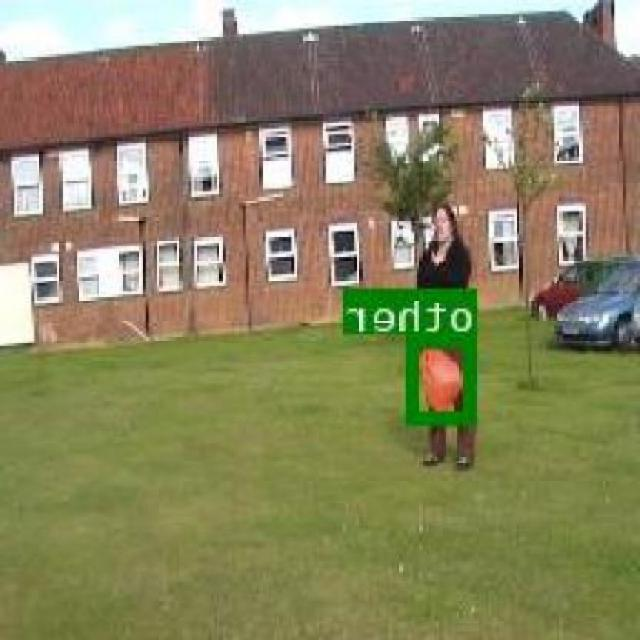other: (411, 332, 480, 421)
